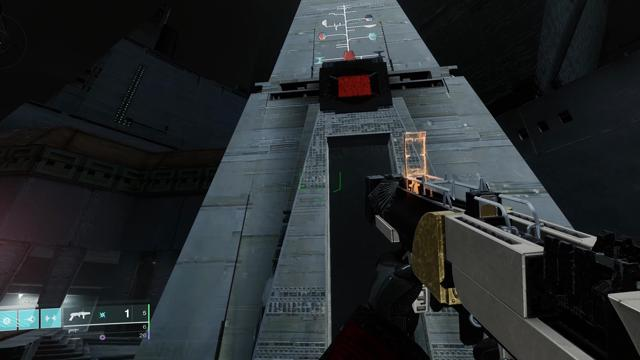stop: (328, 66, 382, 104)
